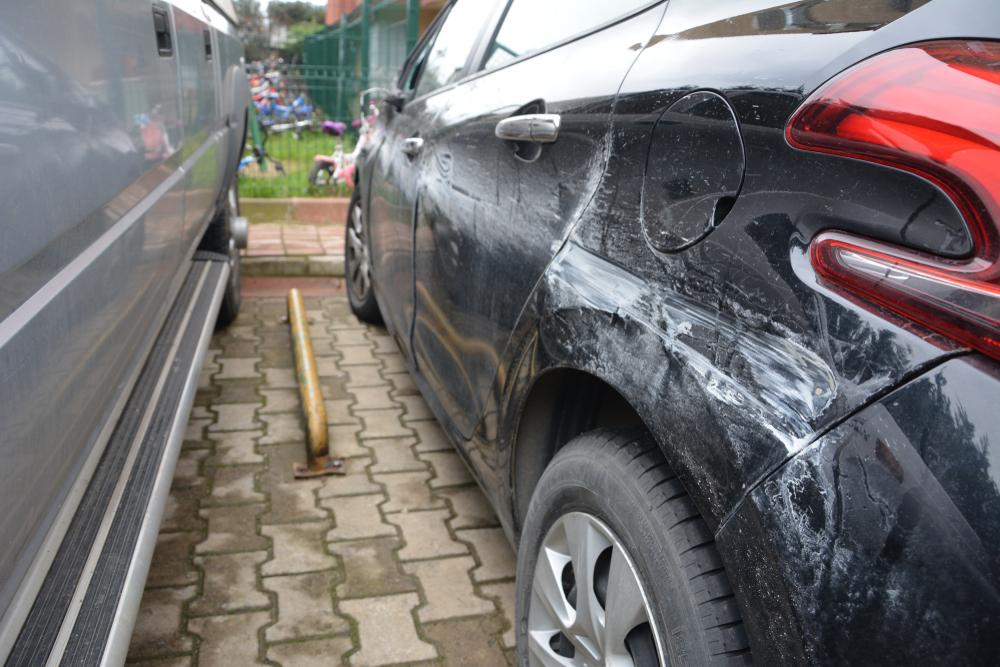scratch: (547, 143, 844, 504), (746, 431, 954, 667)
